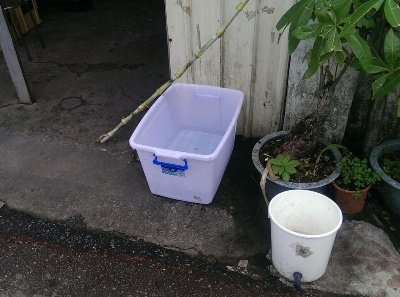box: (129, 82, 244, 206)
bucket: (266, 187, 344, 283)
